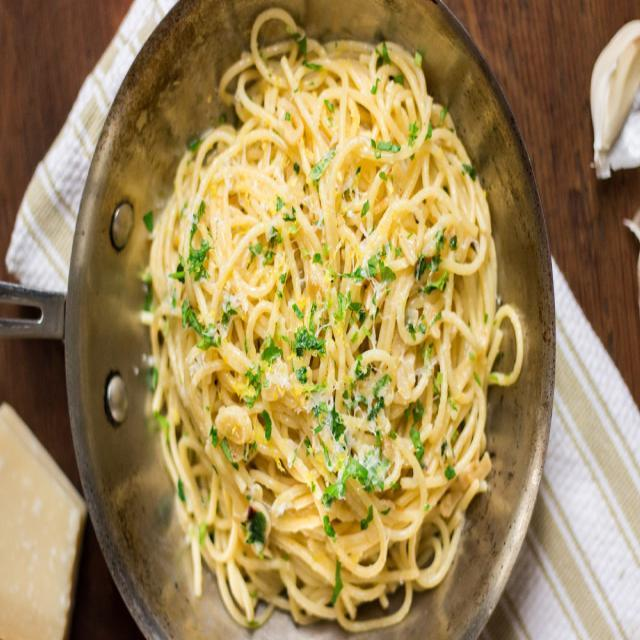Oil pasta: (136, 39, 547, 620)
